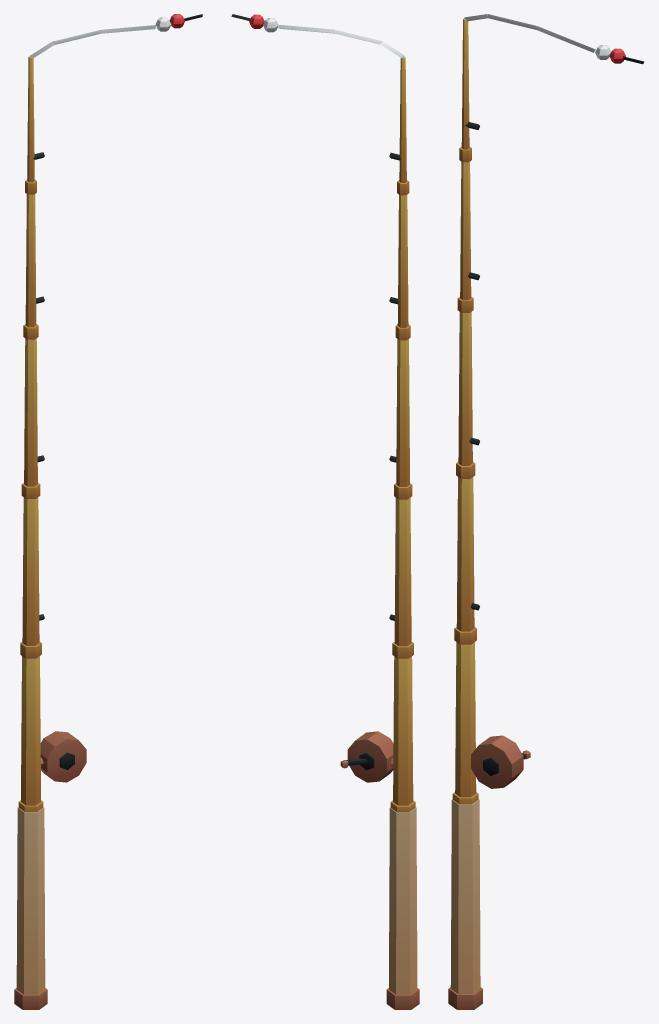
Rendered from fishing_pole.glb.
3 views of the same model, side by side, from view 1: azimuth 30°, elevation 25°; view 2: azimuth 150°, elevation 25°; view 3: azimuth 330°, elevation 25° (orthographic). The views are drawn at different scales.
Visible parts, largest first — view 1: fishing_pole; view 2: fishing_pole; view 3: fishing_pole.
Part boxes in pixels (x1,y1,x2,y2): fishing_pole: [14, 14, 202, 1009]; fishing_pole: [231, 14, 419, 1009]; fishing_pole: [448, 14, 643, 1009].
Size of the model in its own units: 0.665 by 3.32 by 0.155.
Materials: 1 (1 with a texture image).
